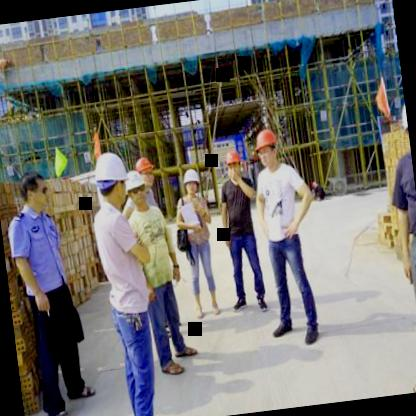head: (13, 162, 56, 219)
helmet: (90, 146, 132, 209), (250, 123, 284, 171), (396, 90, 411, 152), (124, 168, 148, 206), (178, 164, 202, 199), (221, 148, 244, 180), (135, 154, 156, 188)
